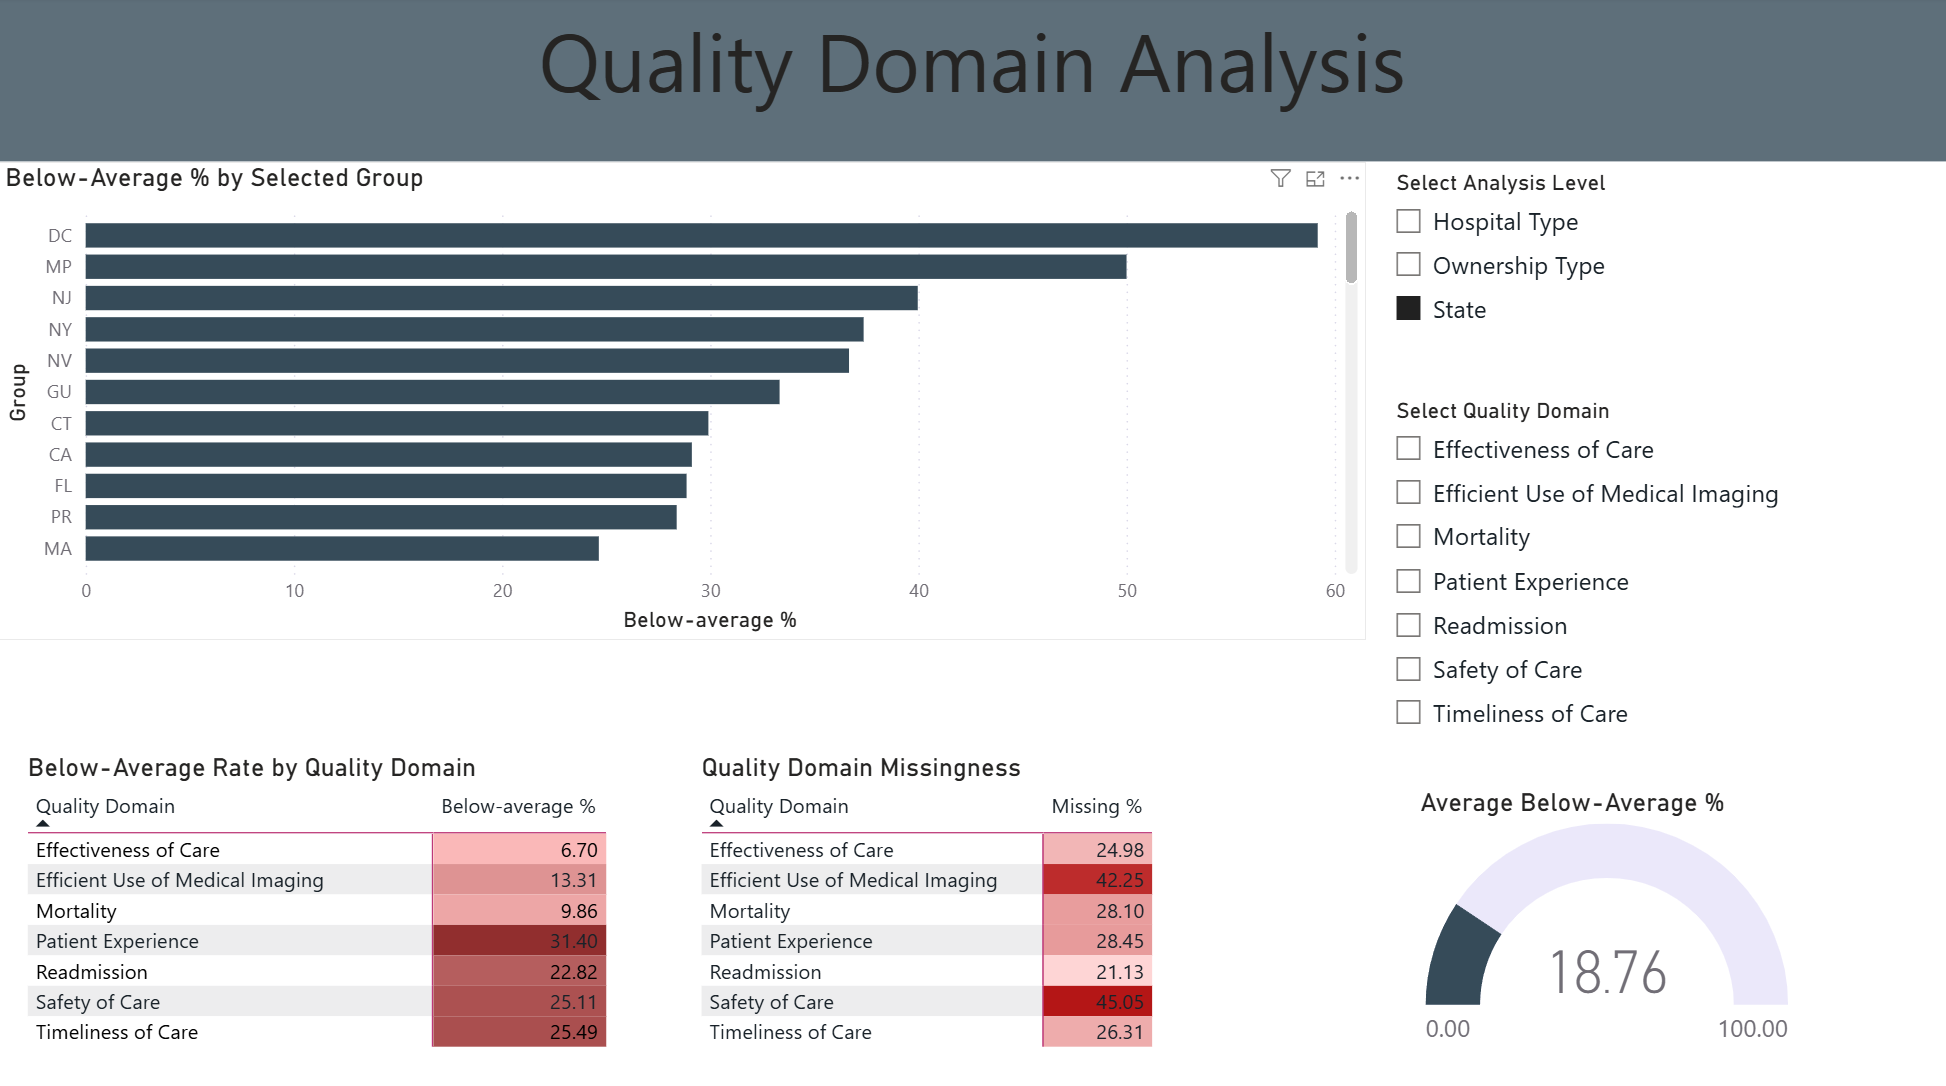

The dashboard page shown, as its layout file describes it:
{"tool":"powerbi","page":{"name":"Quality Domain Analysis","canvas":[1280,720],"ordinal":2},"visuals":[{"type":"pivotTable","title":"Below-Average Rate by Quality Domain","fields":{"Rows":["Quality Domain Below Average.quality_domain"],"Values":["Sum(Quality Domain Below Average.below_average_pct)"]},"box":[15.1,496.1,403.1,224.1],"z":0},{"type":"pivotTable","title":"Quality Domain Missingness","fields":{"Rows":["Quality Domain Missingness.quality_domain"],"Values":["Sum(Quality Domain Missingness.missing_pct)"]},"box":[457.1,496.1,365,224.1],"z":1000},{"type":"textbox","box":[0,0,1280.2,108.1],"z":2000},{"type":"slicer","fields":{"Values":["Combined_Quality_Domains.analysis_level"]},"box":[905.4,108.1,179,149.7],"z":3000},{"type":"slicer","fields":{"Values":["Combined_Quality_Domains.quality_domain"]},"box":[905.4,257.8,302.1,240.1],"z":4000},{"type":"clusteredBarChart","title":"Below-Average % by Selected Group","fields":{"Category":["Combined_Quality_Domains.group_name"],"Y":["Avg(Combined_Quality_Domains.below_average_pct)"]},"box":[0,108.1,898.3,313.6],"z":4001},{"type":"gauge","fields":{"Y":["Combined_Quality_Domains.Average Below-Average %"]},"box":[929.3,519.2,255.2,179.8],"z":4002}]}

Visuals, with their boxes in screenshot pixels (x1, y1, x2, y2), scaled from the page's 1280x720 canvas onto the 1946x1086 screenshot:
"Below-Average Rate by Quality Domain" pivotTable: <bbox>23, 748, 636, 1085</bbox>
"Quality Domain Missingness" pivotTable: <bbox>695, 748, 1250, 1085</bbox>
textbox: <bbox>0, 0, 1945, 163</bbox>
slicer - Combined_Quality_Domains.analysis_level: <bbox>1376, 163, 1649, 389</bbox>
slicer - Combined_Quality_Domains.quality_domain: <bbox>1376, 389, 1836, 751</bbox>
"Below-Average % by Selected Group" clusteredBarChart: <bbox>0, 163, 1366, 636</bbox>
gauge - Combined_Quality_Domains.Average Below-Average %: <bbox>1413, 783, 1801, 1054</bbox>
